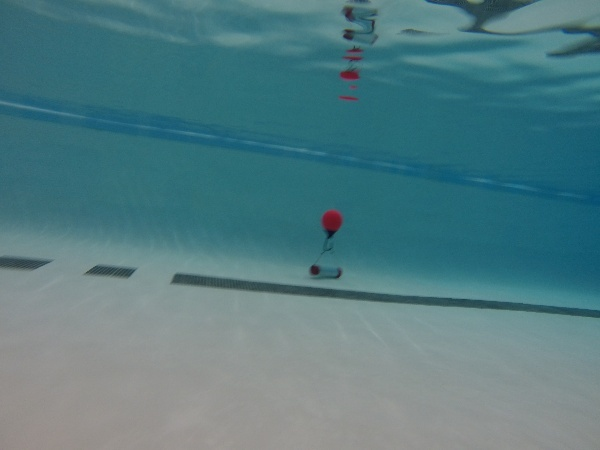buoy_red: (318, 207, 344, 241)
